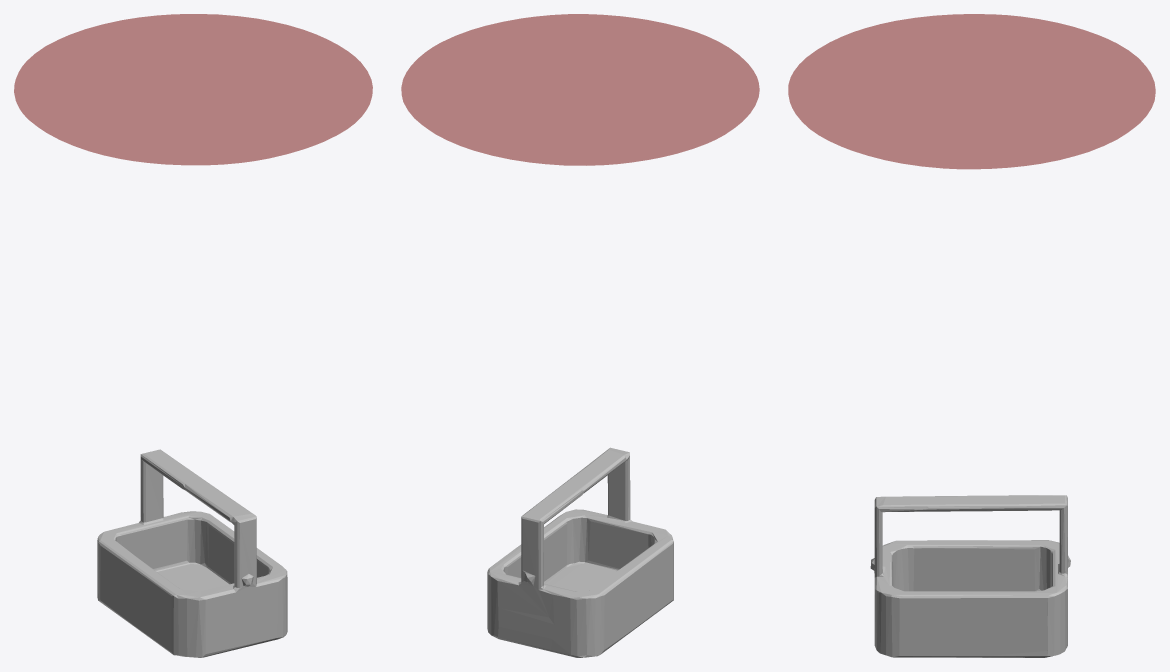
Rendered from init.glb.
3 views of the same model, side by side, from view 1: azimuth 30°, elevation 25°; view 2: azimuth 150°, elevation 25°; view 3: azimuth 270°, elevation 25° (orthographic). The views are drawn at different scales.
Parts seen in each view (by area): view 1: world, object.obj; view 2: world, object.obj; view 3: world, object.obj.
Part boxes in pixels (<box>): world: <box>14,14,372,165</box>; object.obj: <box>97,449,287,657</box>; world: <box>401,14,759,165</box>; object.obj: <box>487,447,673,657</box>; world: <box>788,14,1155,169</box>; object.obj: <box>870,495,1070,657</box>.
Bounding box in the file's own units: 0.6176 × 0.9996 × 0.6176.
